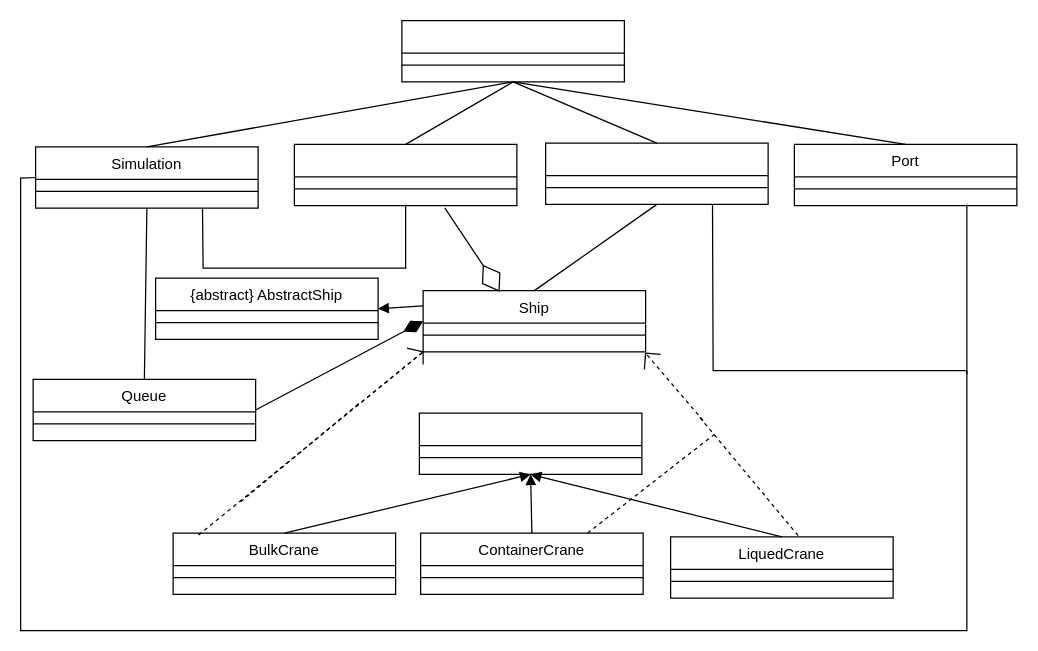
This 1038x651 diagram has some shape labels left out. The centre of each missing label's shape, as x and y in pixels:
"Program" belongs at (512,50).
"Schedule" belongs at (405,174).
"Time" belongs at (656,173).
"{abstract} AbstractCrane" belongs at (530,443).
